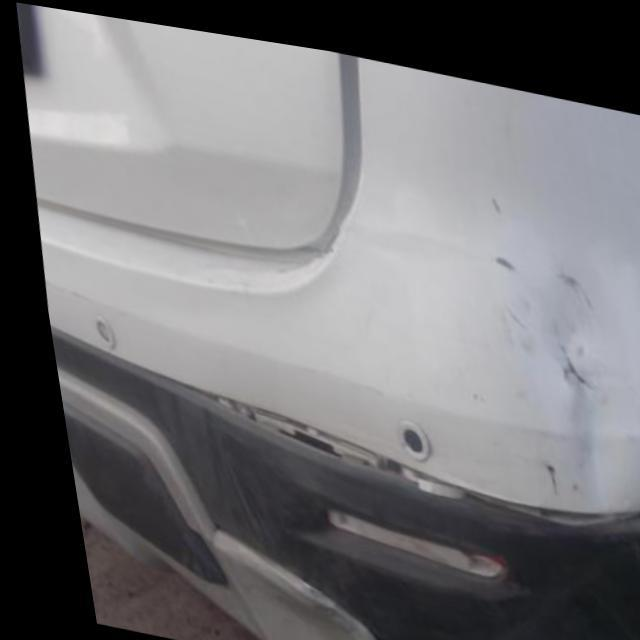crack: (546, 238, 599, 304), (543, 325, 589, 375), (488, 277, 528, 328), (484, 233, 519, 268), (485, 177, 506, 206)
dent: (558, 376, 613, 496)
dislocated part: (148, 370, 640, 515)
no part: (424, 613, 595, 640)
